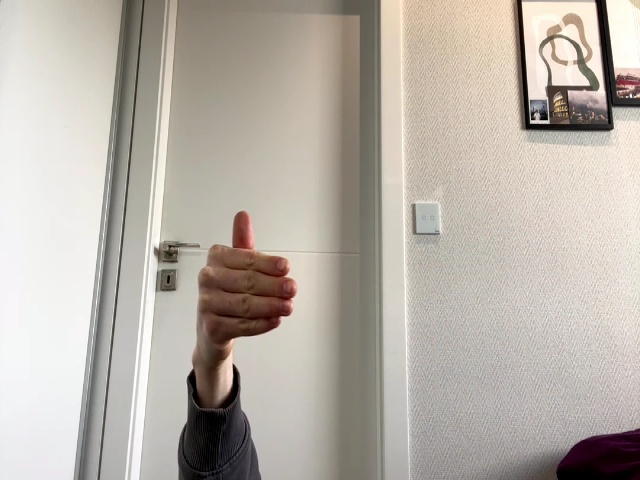M: (197, 210, 298, 374)
